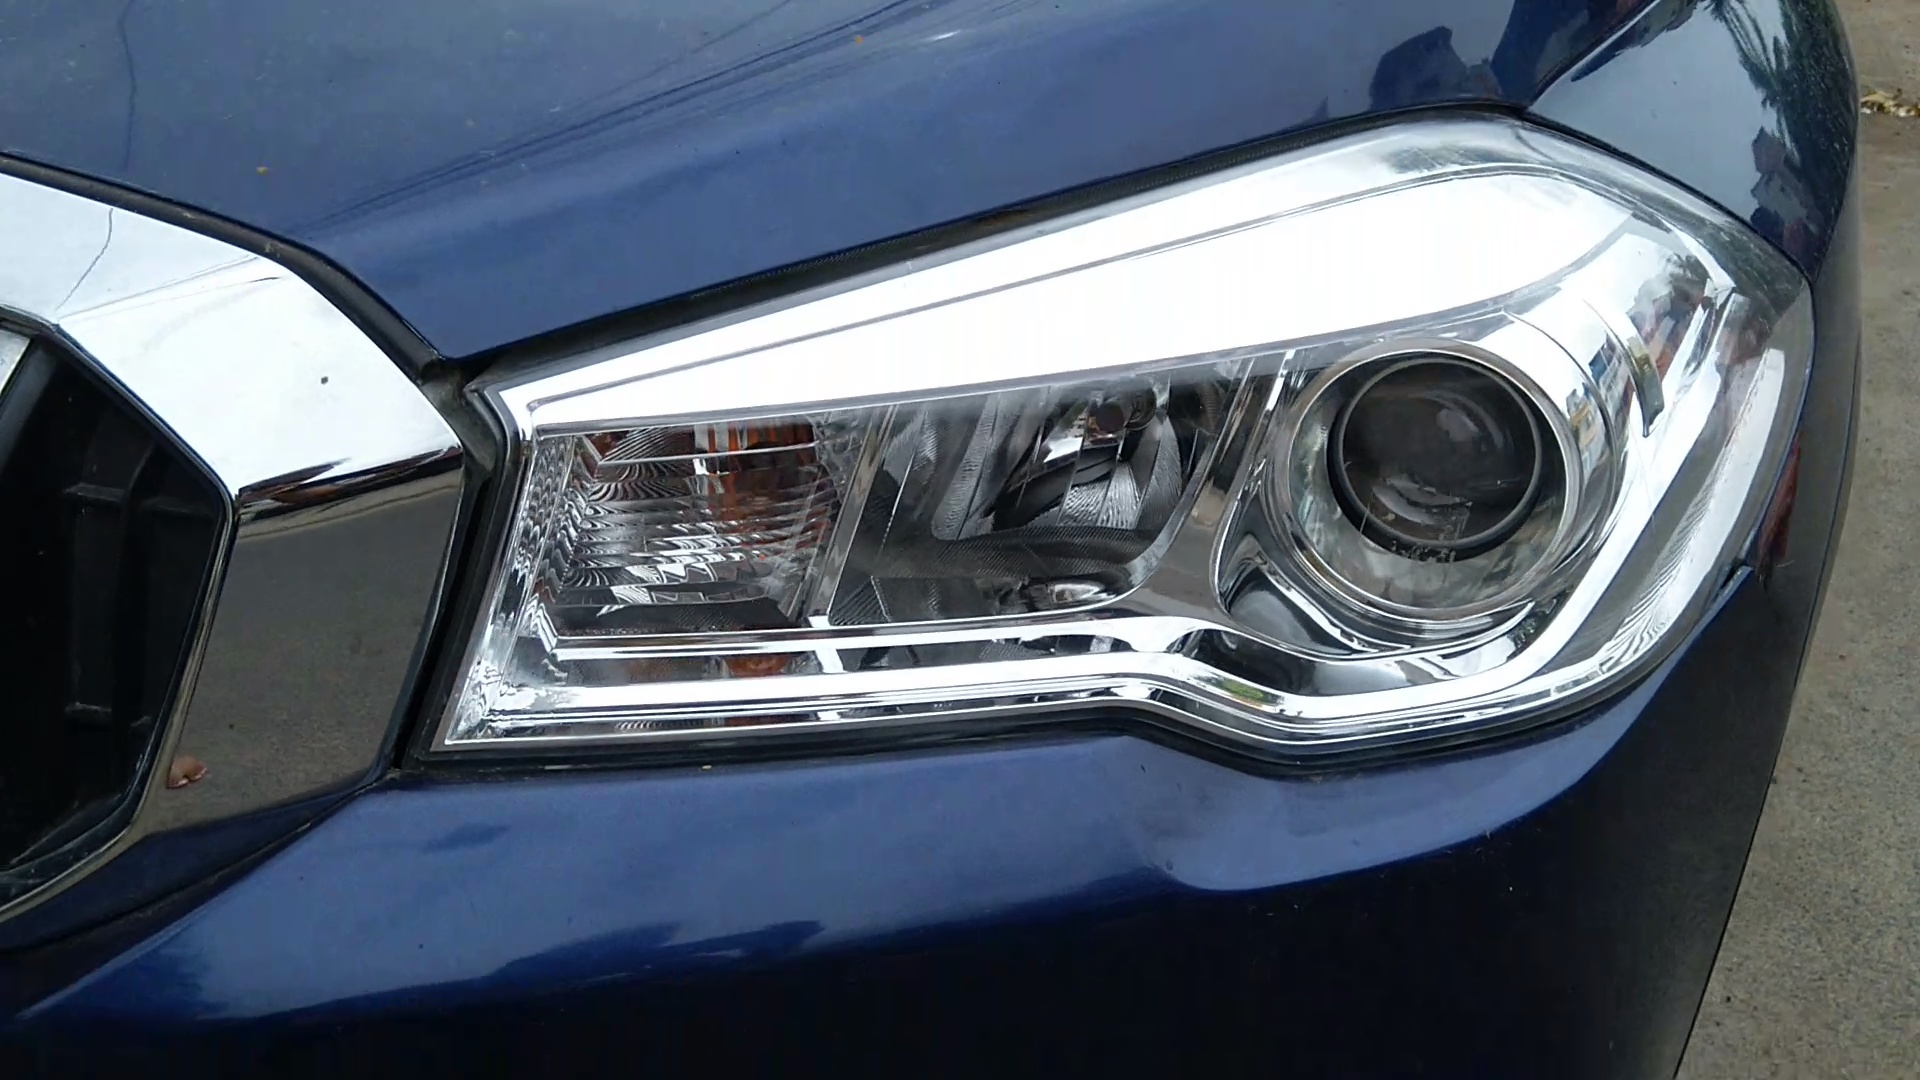headlamp: (429, 50, 1832, 955)
